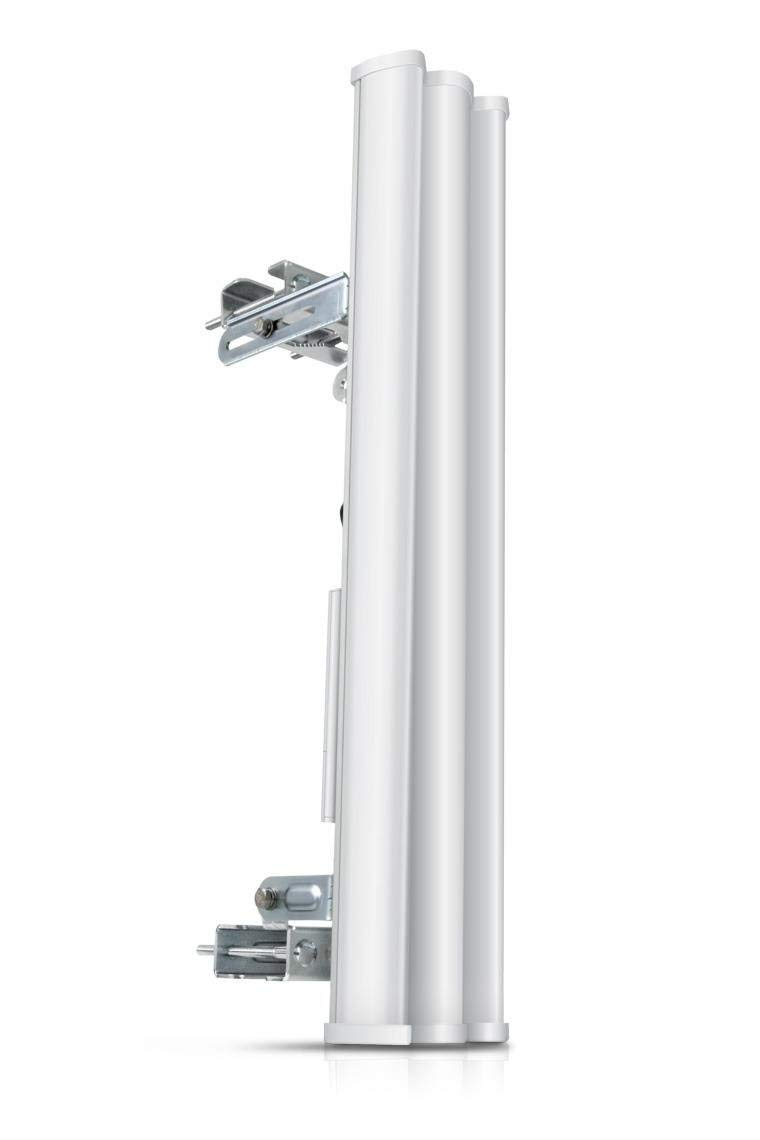sa: (250, 44, 566, 1067)
